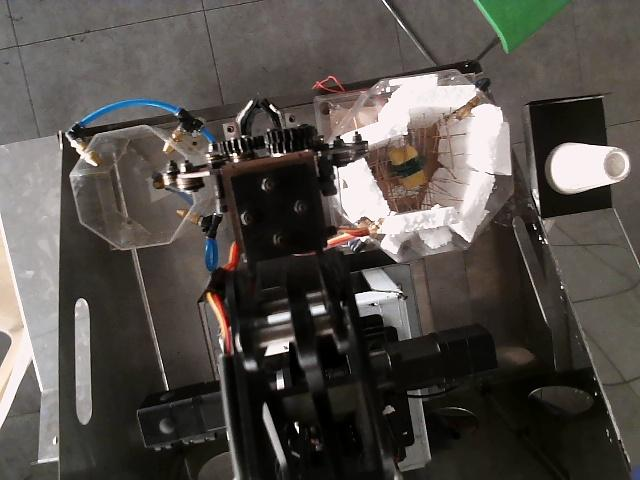cup: (546, 143, 629, 193)
